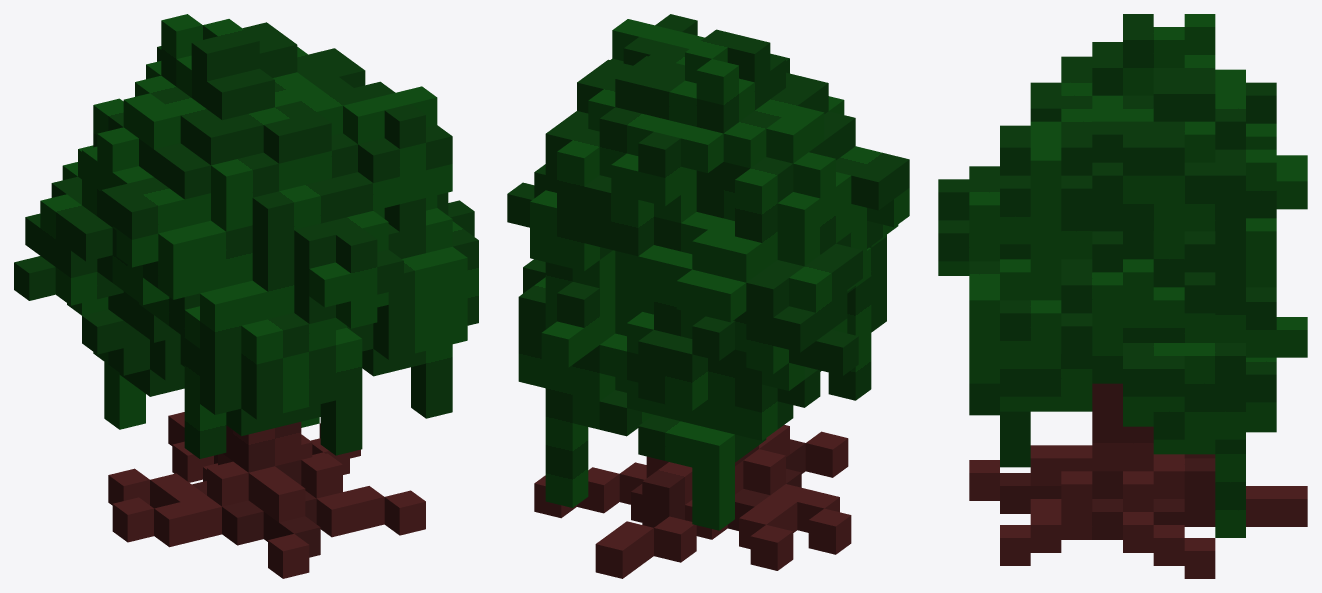
File: drzewko_02.dae
3 views of the same model, side by side, from view 1: azimuth 30°, elevation 25°; view 2: azimuth 150°, elevation 25°; view 3: azimuth 270°, elevation 25° (orthographic). The views are drawn at different scales.
Parts seen in each view (by area): view 1: Content; view 2: Content; view 3: Content.
Part boxes in pixels (x1,y1,x2,y2): Content: [14, 14, 478, 578]; Content: [507, 14, 909, 578]; Content: [938, 14, 1307, 578].
Bounding box in the file's own units: 14 × 17 × 12.
1 material, 1 textured.
